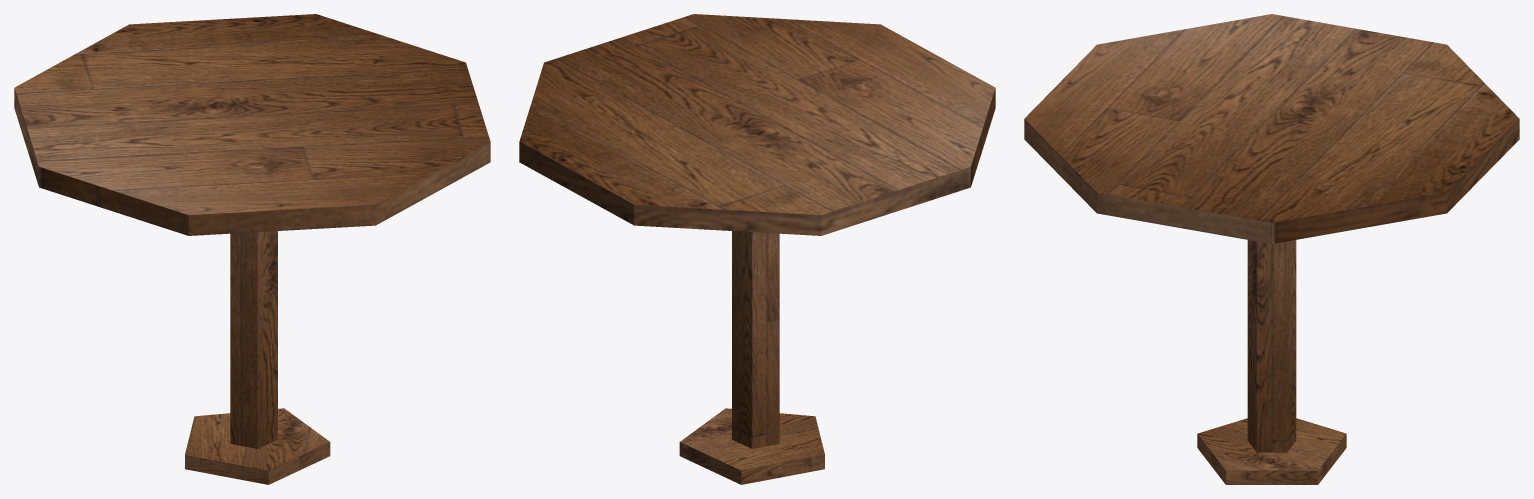
Rendered from Table.fbx.
3 renders of one model, left to right at view 1: azimuth 30°, elevation 25°; view 2: azimuth 150°, elevation 25°; view 3: azimuth 270°, elevation 25°, orthographic.
Visible parts, largest first — view 1: Circle Table; view 2: Circle Table; view 3: Circle Table.
Boxes of the visible parts, x1=… form: Circle Table: x1=14, y1=14, x2=490, y2=484; Circle Table: x1=519, y1=14, x2=995, y2=484; Circle Table: x1=1024, y1=14, x2=1519, y2=484.
Bounding box in the file's own units: 175 × 175 × 132.
Materials: 1 (1 with a texture image).
